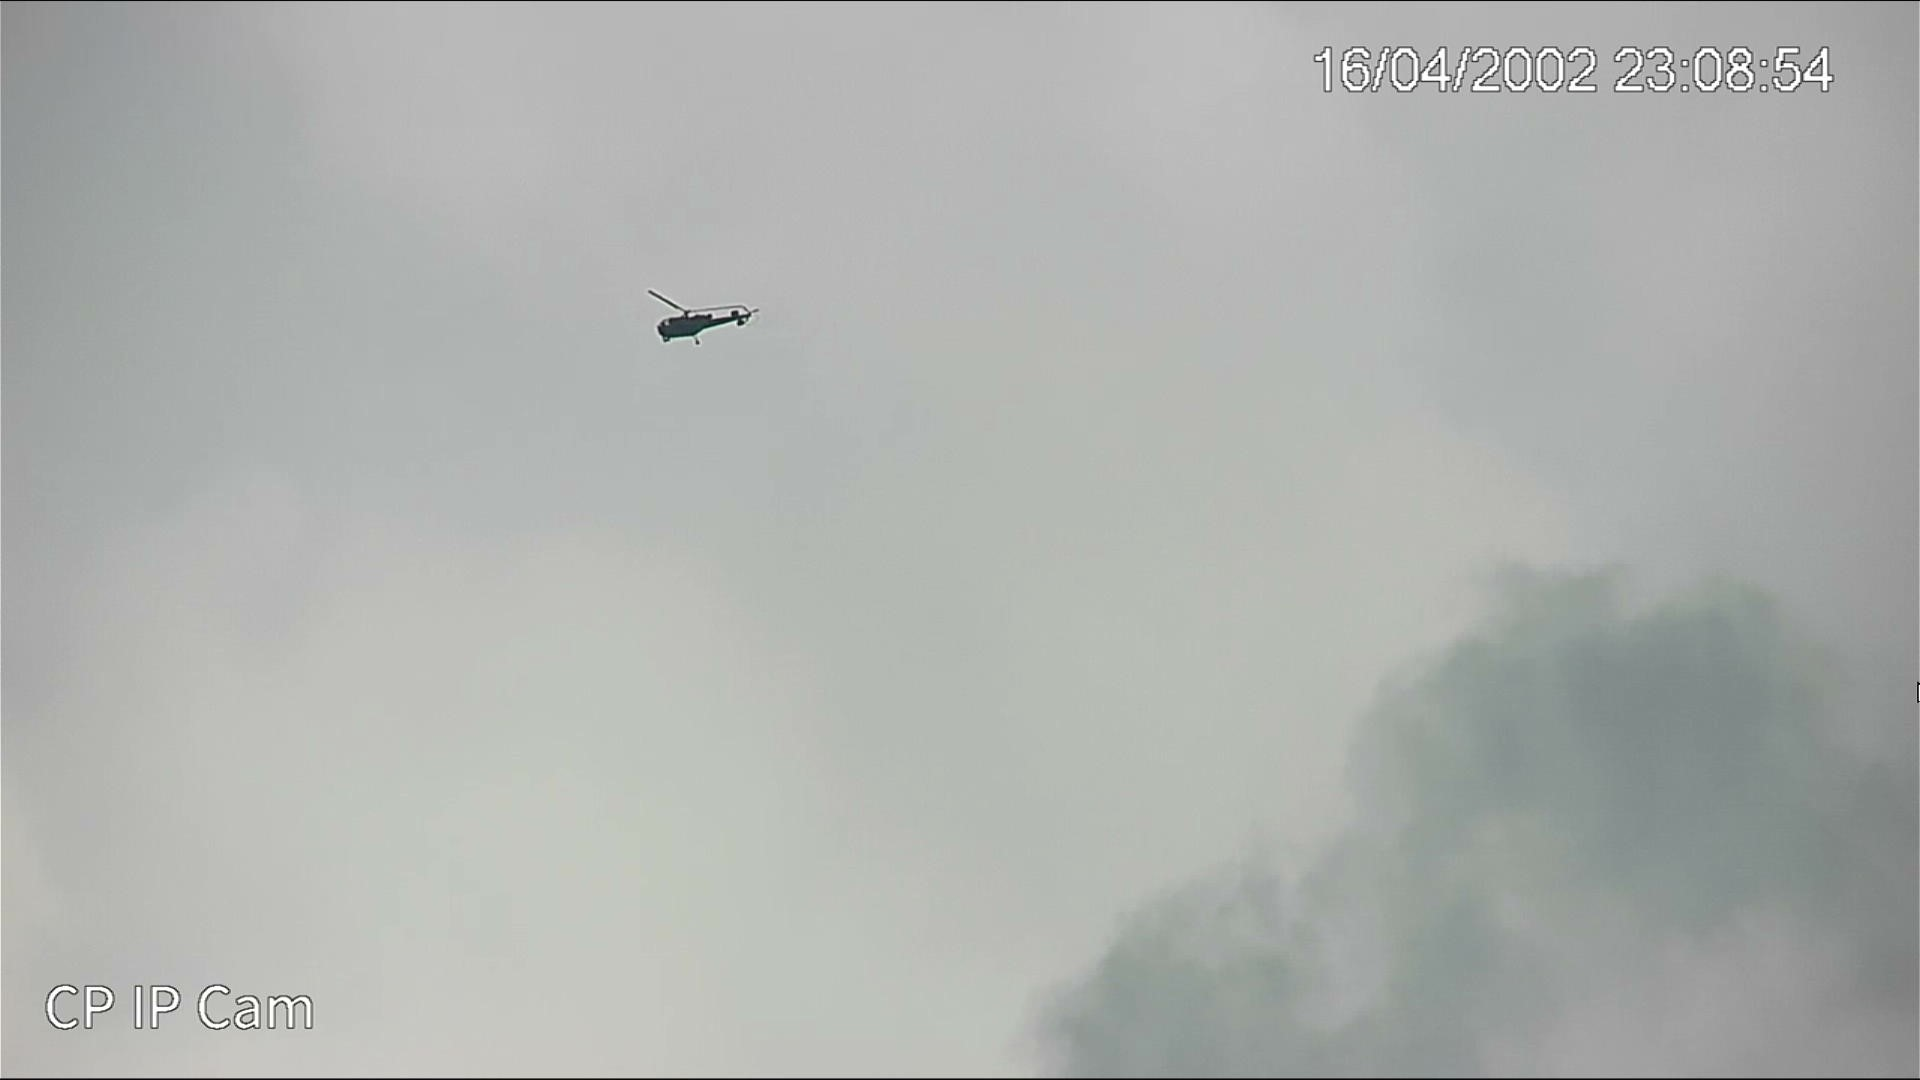SU_30: (651, 295, 756, 351)
